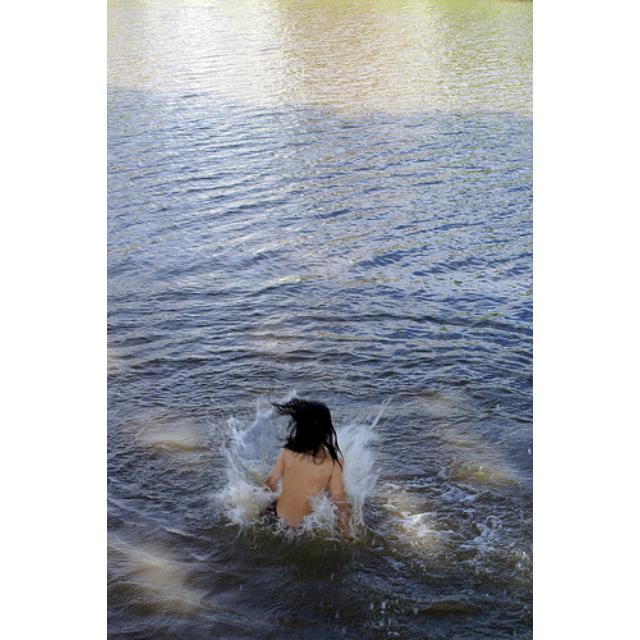human: (266, 391, 350, 531)
